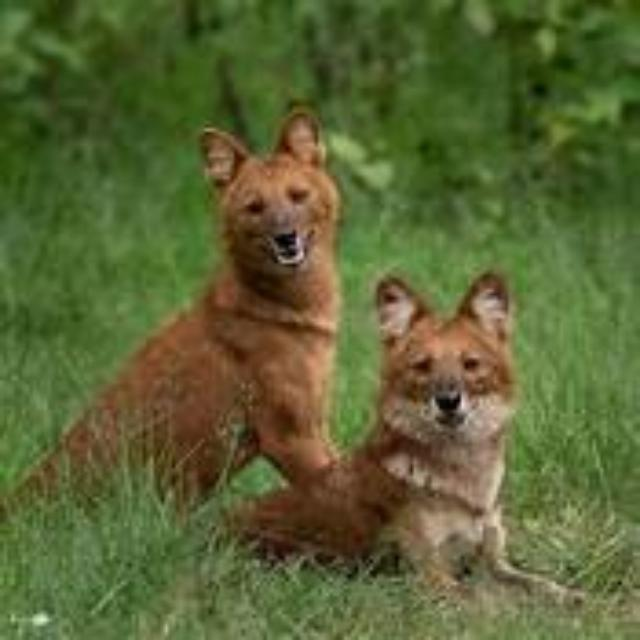dog: (142, 114, 358, 454), (339, 273, 555, 577)
